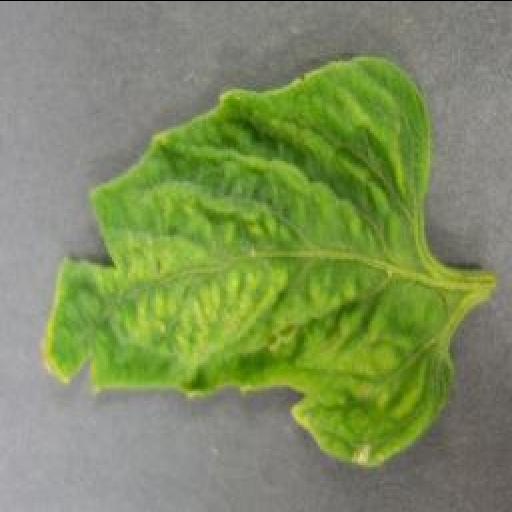disease_tomato: (37, 54, 459, 466)
